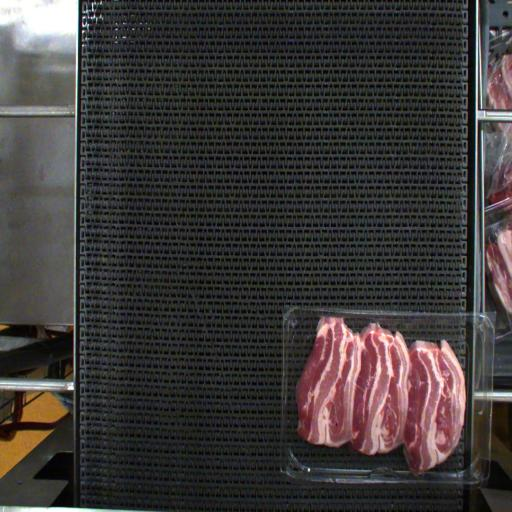packaging-error: (318, 306, 352, 328)
